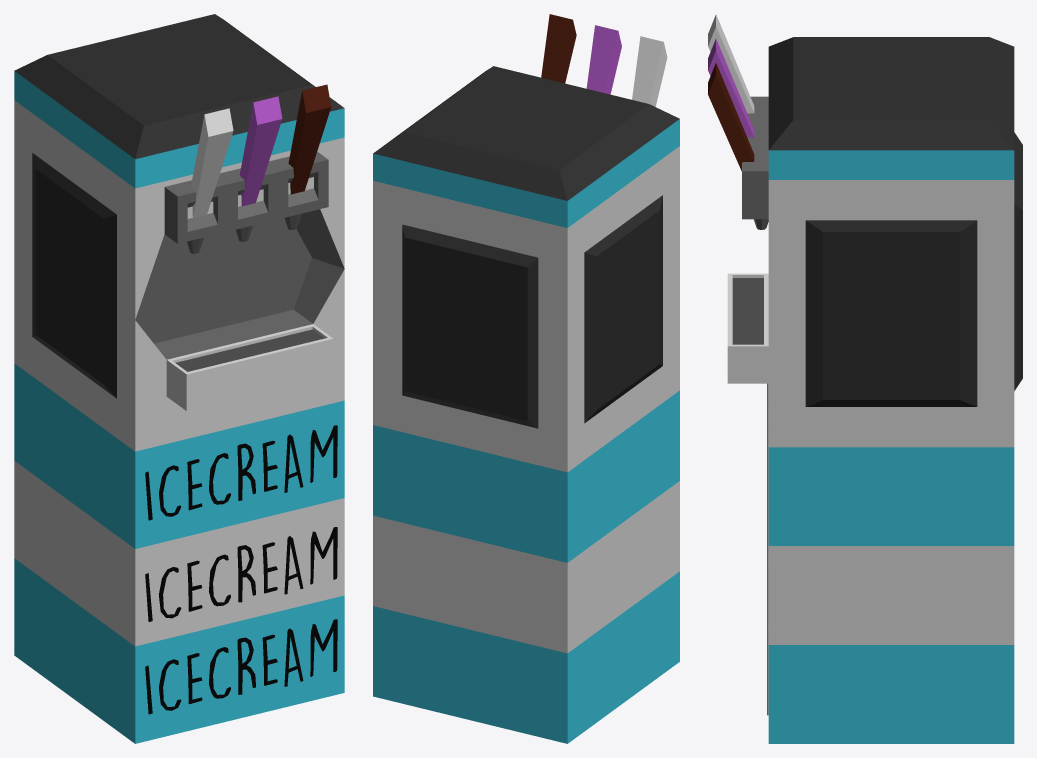
The model's file is Icecream Maker.fbx.
The picture shows the model from 3 angles, left to right: view 1: azimuth 30°, elevation 25°; view 2: azimuth 150°, elevation 25°; view 3: azimuth 270°, elevation 25°; orthographic projection. The views are drawn at different scales.
Visible parts, largest first — view 1: Icecream Maker, Chocolate, StrawBerry Lever, Vanilla Lever; view 2: Icecream Maker, Vanilla Lever, Chocolate, StrawBerry Lever; view 3: Icecream Maker, Chocolate, StrawBerry Lever, Vanilla Lever.
Boxes of the visible parts, x1=… form: Icecream Maker: x1=14, y1=14, x2=344, y2=743; Chocolate: x1=288, y1=84, x2=331, y2=194; StrawBerry Lever: x1=239, y1=96, x2=282, y2=206; Vanilla Lever: x1=190, y1=108, x2=233, y2=218; Icecream Maker: x1=373, y1=66, x2=679, y2=743; Vanilla Lever: x1=632, y1=36, x2=667, y2=106; Chocolate: x1=541, y1=14, x2=576, y2=83; StrawBerry Lever: x1=586, y1=25, x2=621, y2=94; Icecream Maker: x1=727, y1=37, x2=1022, y2=743; Chocolate: x1=708, y1=63, x2=754, y2=171; StrawBerry Lever: x1=708, y1=38, x2=754, y2=137; Vanilla Lever: x1=708, y1=14, x2=754, y2=113.
Size of the model in its own units: 627 by 1746 by 769.
